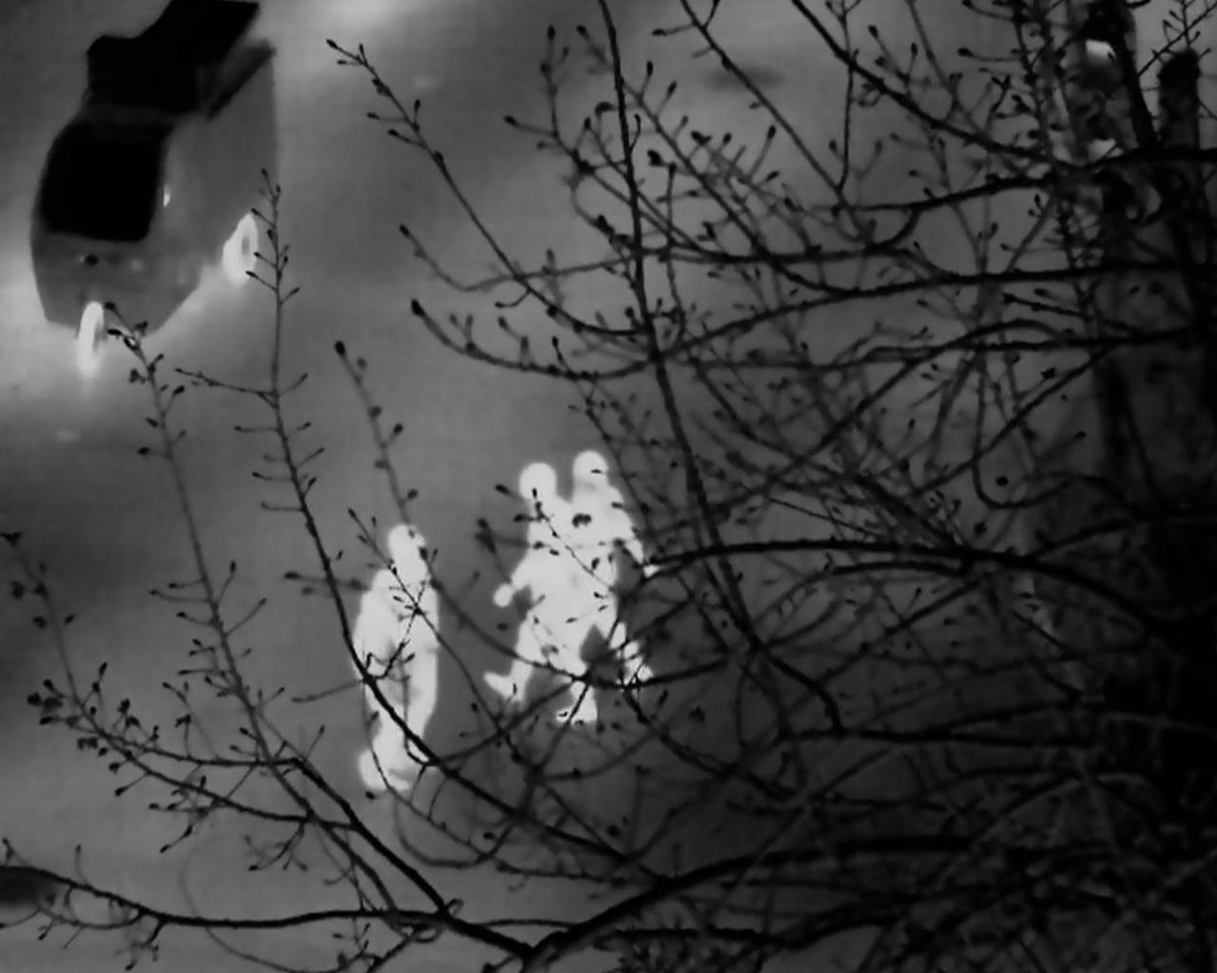person: (561, 436, 671, 687), (357, 511, 433, 772), (498, 462, 572, 704)
